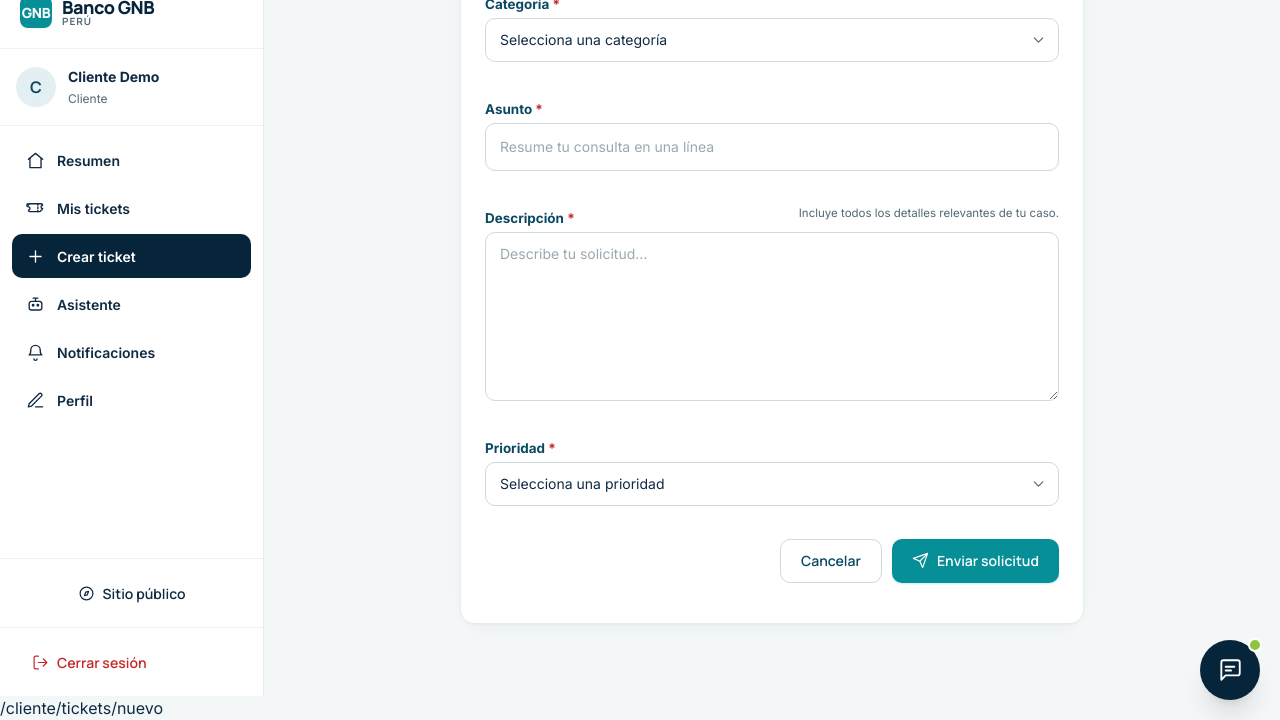
Test: creación manual de tickets › valida categoría, asunto, descripción y prioridad
(page scrolled)
expect the dropdown labelled "Categoría" is shown: met, box 485,18 -> 1059,62
Step 1. Click the button "Enviar solicitud" → (975, 561), box 892,539 -> 1059,583
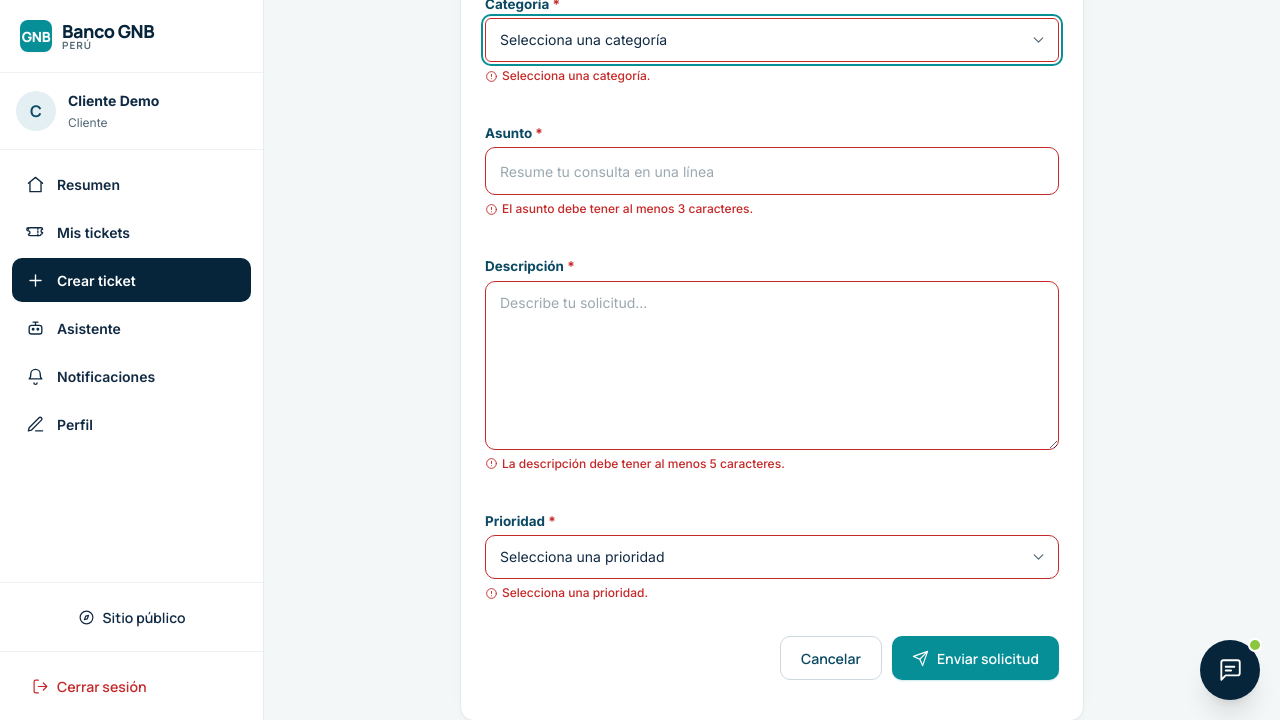
expect the text "Selecciona una categoría." is shown: met, box 485,68 -> 650,83
expect the text "El asunto debe tener al menos 3 caracteres." is shown: met, box 485,201 -> 753,216
expect the text "La descripción debe tener al menos 5 caracteres." is shown: met, box 485,456 -> 785,471
